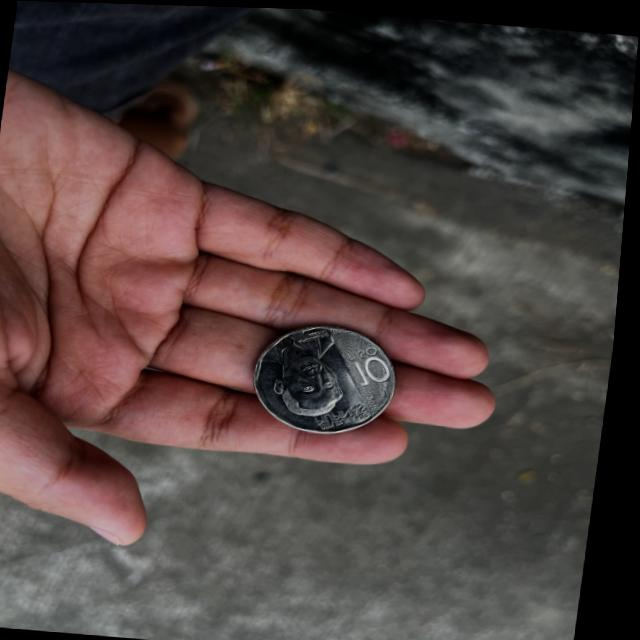10_New_Front: (341, 331, 397, 390)
